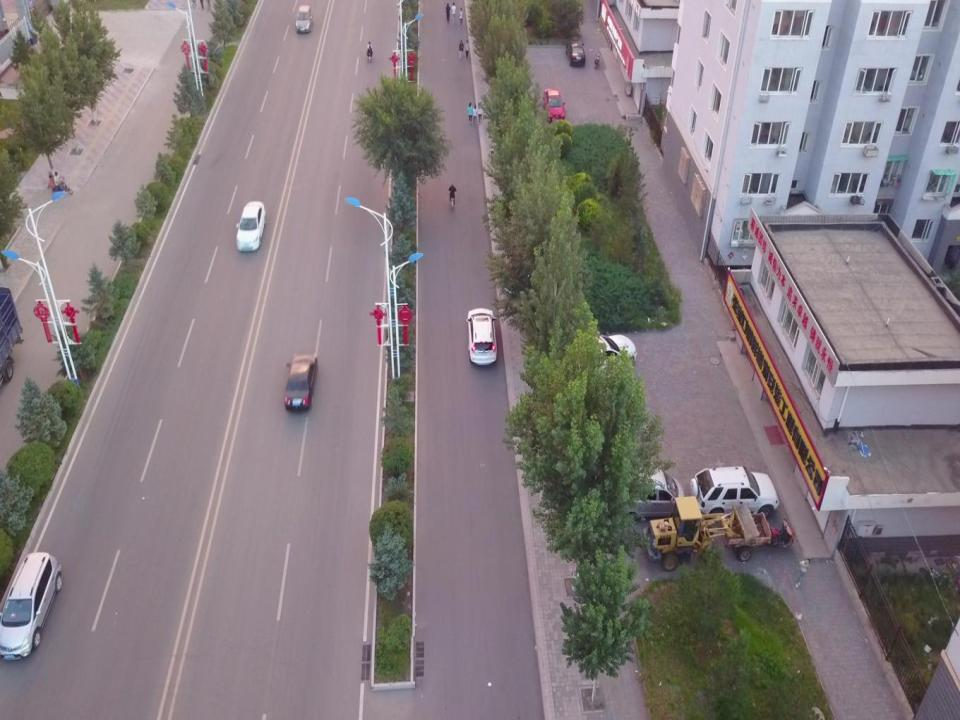car: (544, 334, 637, 397), (690, 466, 779, 520), (284, 354, 318, 410), (466, 308, 497, 365), (236, 200, 266, 252), (543, 88, 565, 124), (565, 40, 586, 66), (296, 5, 312, 34)
van: (0, 552, 62, 660), (607, 468, 685, 525)
